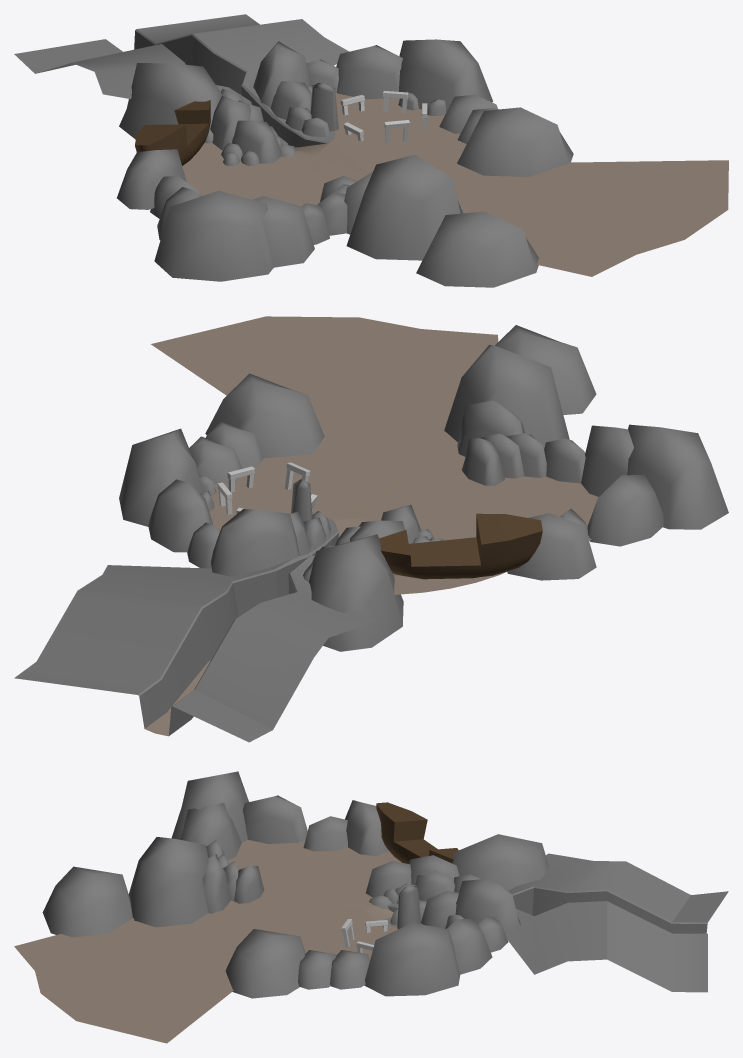
File: SpaceTestMesh.fbx
The picture shows the model from 3 angles, top to bottom: view 1: azimuth 30°, elevation 25°; view 2: azimuth 150°, elevation 25°; view 3: azimuth 270°, elevation 25°; orthographic projection. The views are drawn at different scales.
Visible parts, largest first — view 1: polySurface13; view 2: polySurface13; view 3: polySurface13.
Part boxes in pixels (box(x1,y1,x2,y2)): polySurface13: box(14, 14, 728, 287); polySurface13: box(14, 316, 728, 742); polySurface13: box(14, 771, 728, 1043).
Bounding box in the file's own units: 149 × 34.16 × 193.
